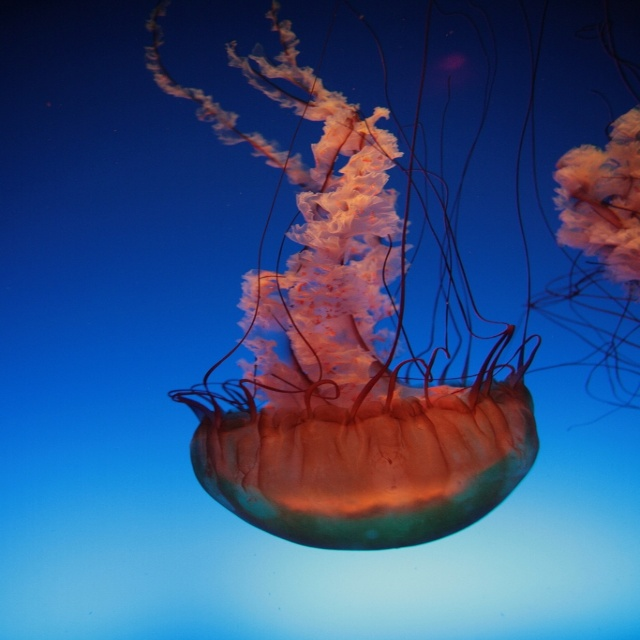Jellyfish: (143, 10, 588, 561)
